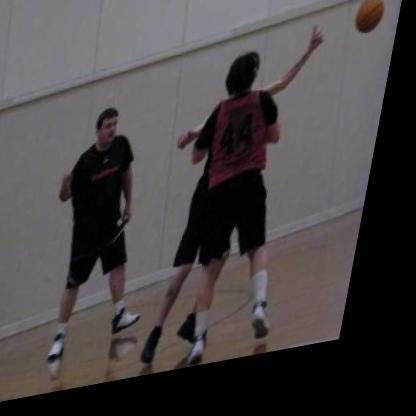basketball: (351, 11, 396, 54)
